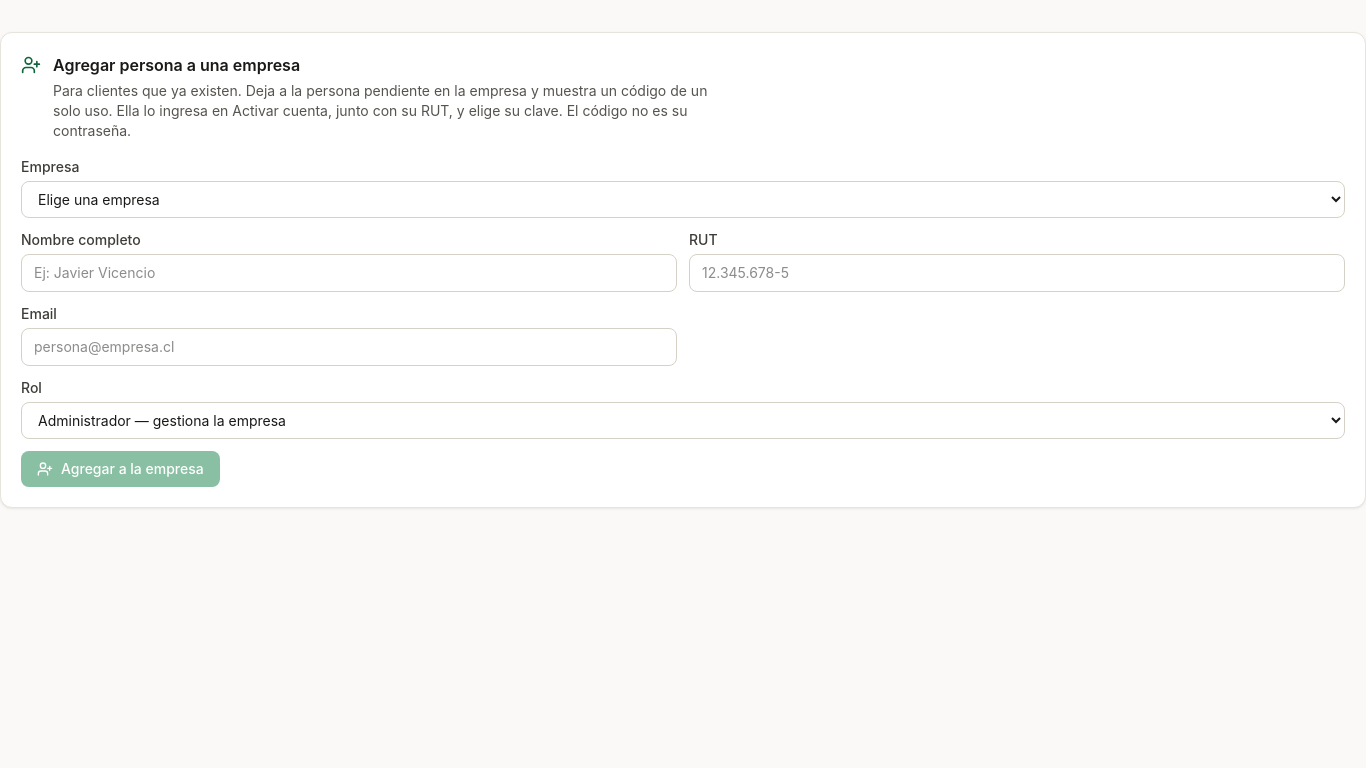
Test case: InvitarMiembroEmpresa › avisa cuando la persona ya es miembro, sin dejar el form colgado
Select "Transportes Van Oosterwyk · 76653720-0" in the dropdown labelled "Empresa". click: [683, 200]
box: [21,181,1345,218]
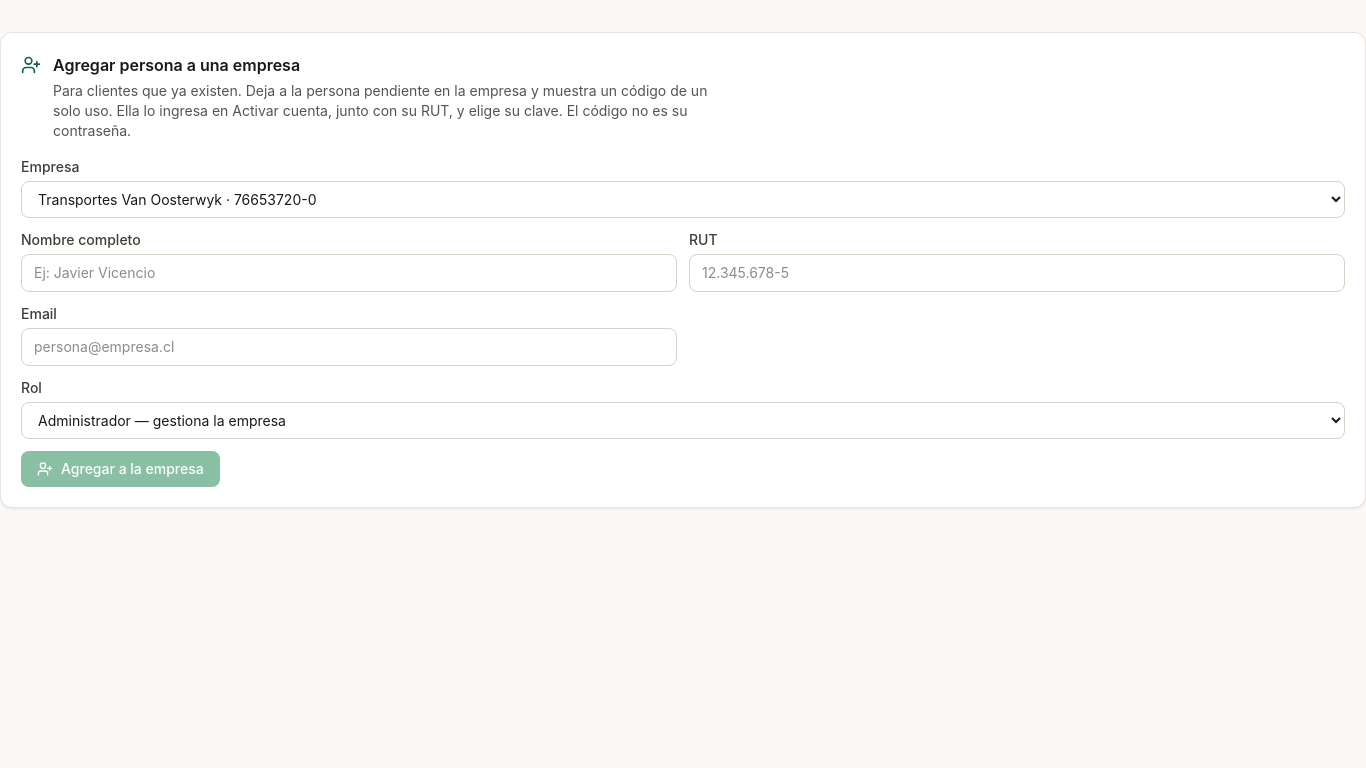
Type "Javier Vicencio" into the field labelled "Nombre completo". click: [349, 273]
box: [21,254,677,292]
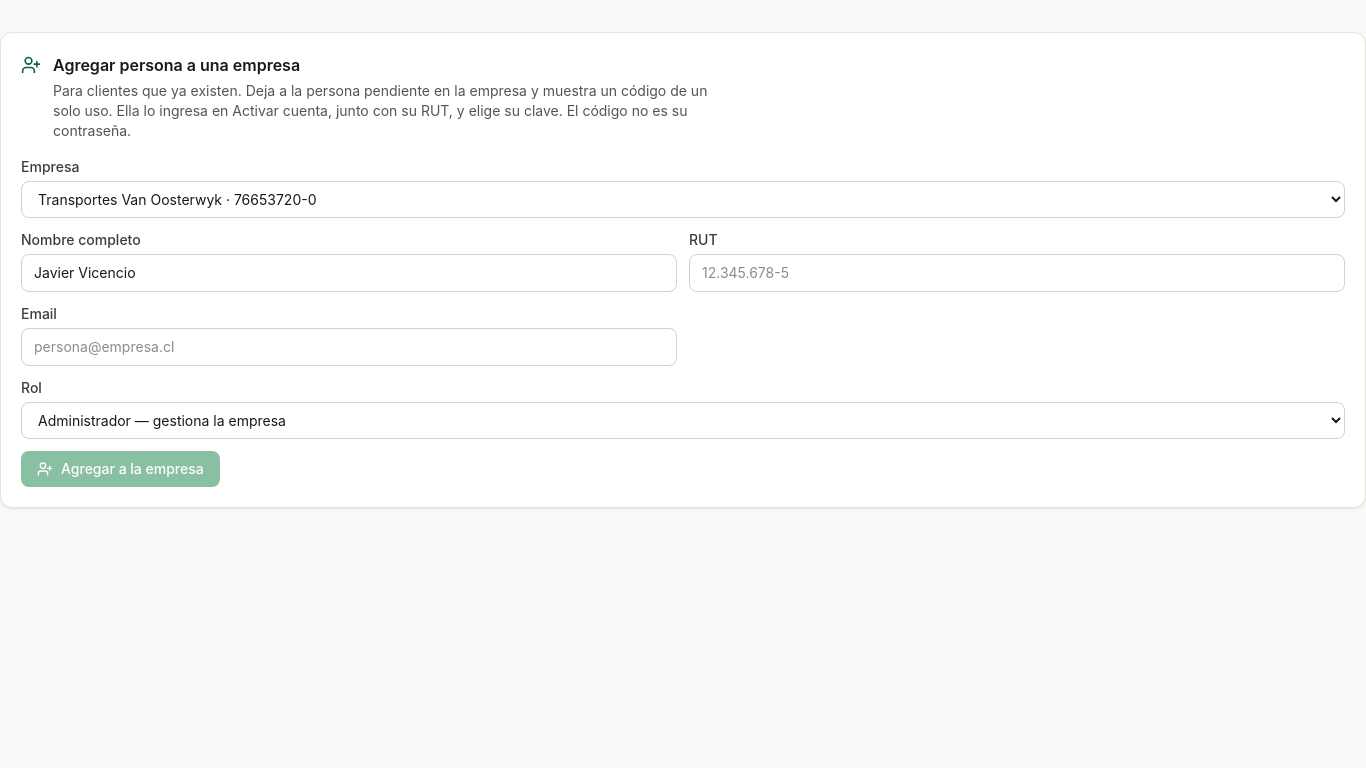
Type "12345678-5" into the field labelled "RUT". click: [1017, 273]
box: [689,254,1345,292]
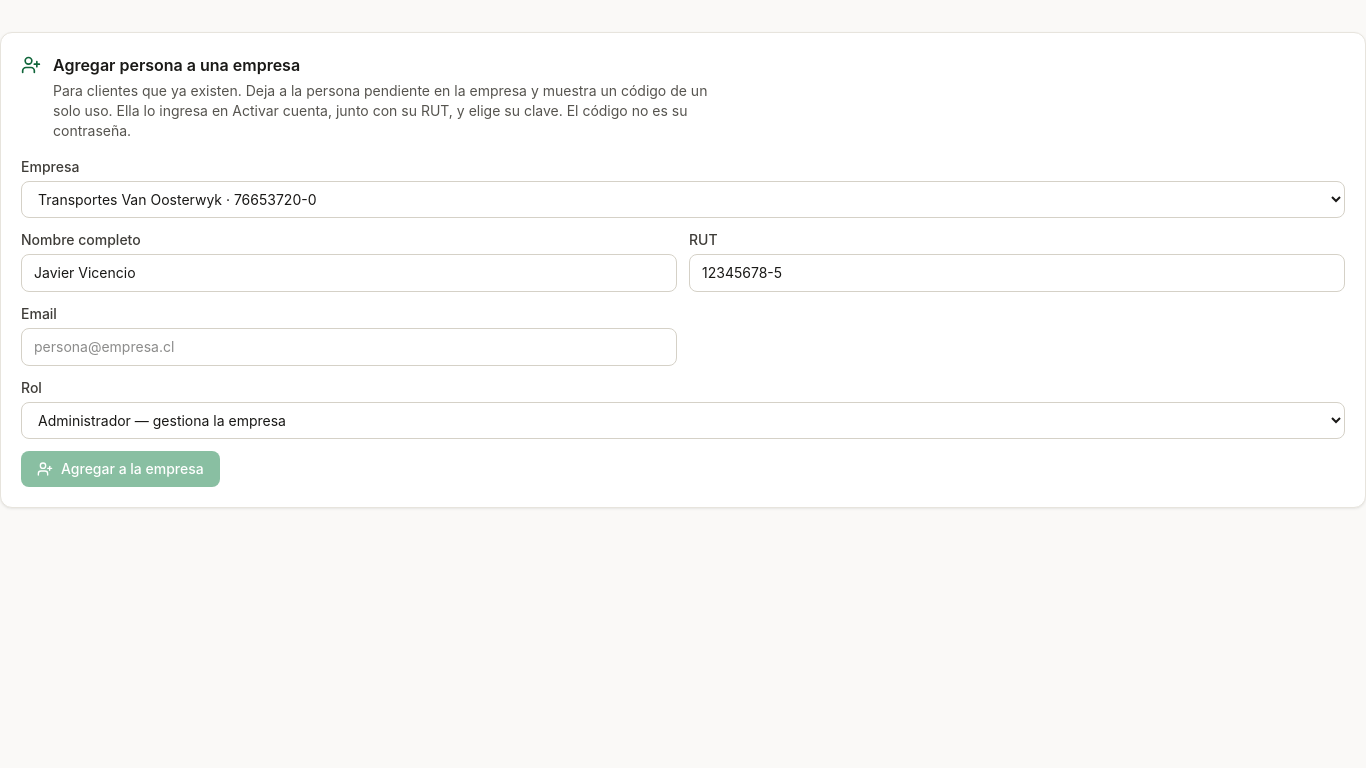
Type "fvicencio@me.com" into the field labelled "Email". click: [349, 347]
box: [21,328,677,366]
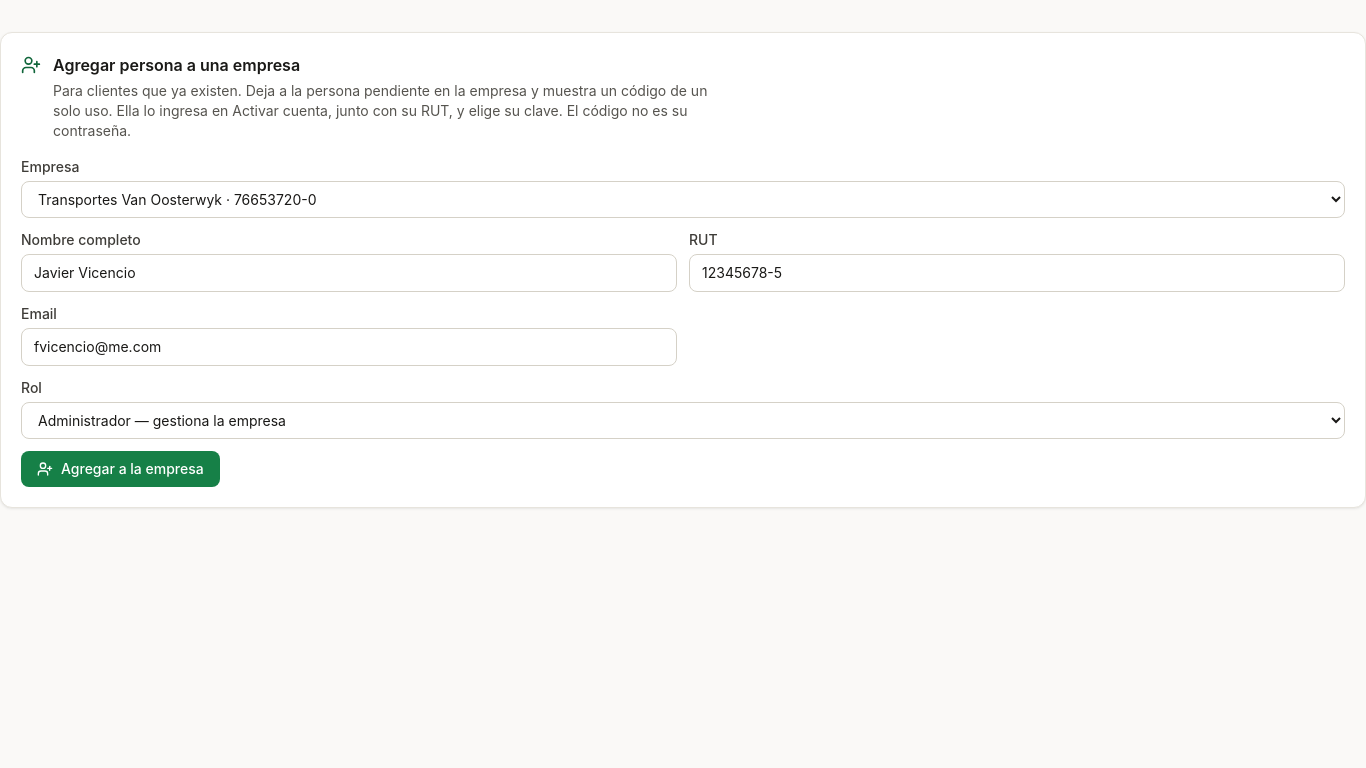
Click the button "Agregar a la empresa". click: [120, 469]
box: [21,451,220,487]
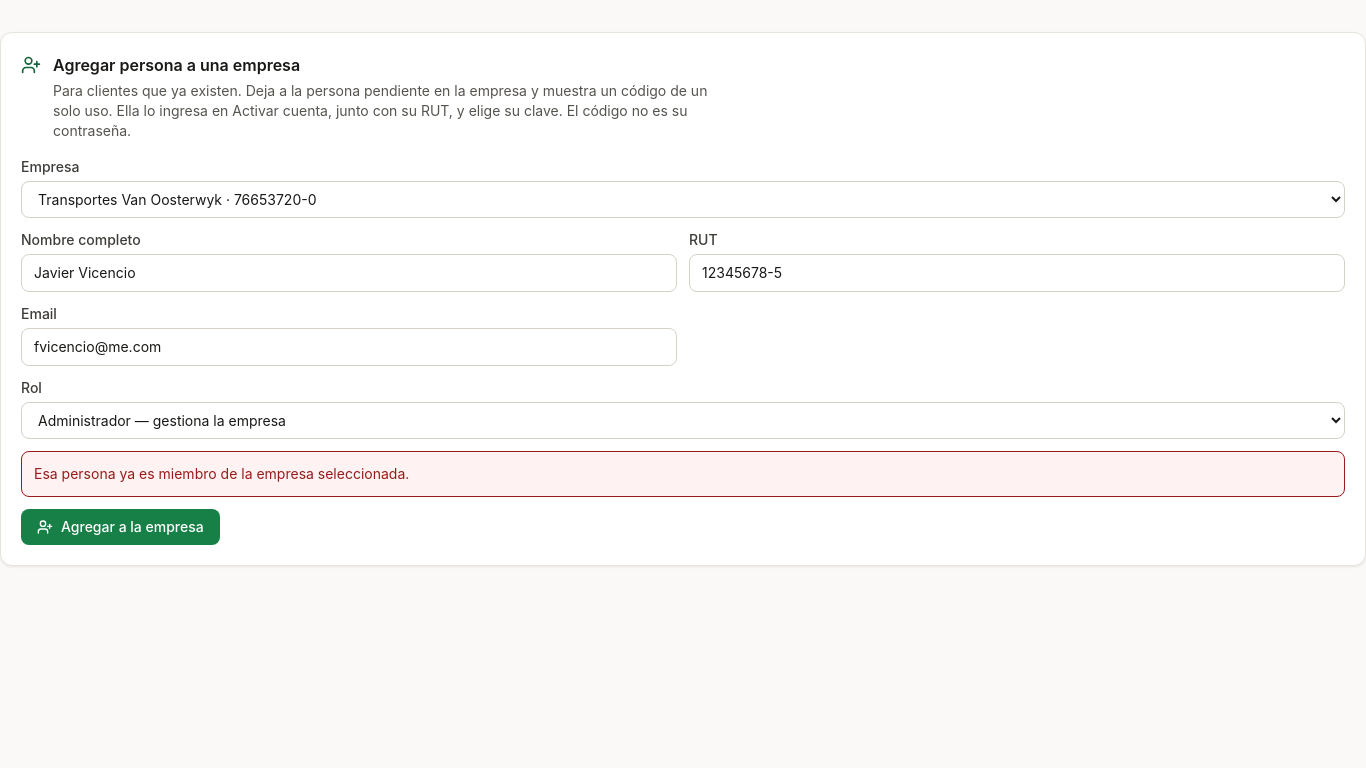
Expected: the button "Agregar a la empresa" is enabled, [21,509,220,545]
Expected: the message "Esa persona ya es miembro de la empresa seleccionada." is shown, [21,451,1345,497]
